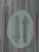Two way: (3, 5, 38, 50)
